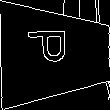P_E: (31, 35, 79, 73)
